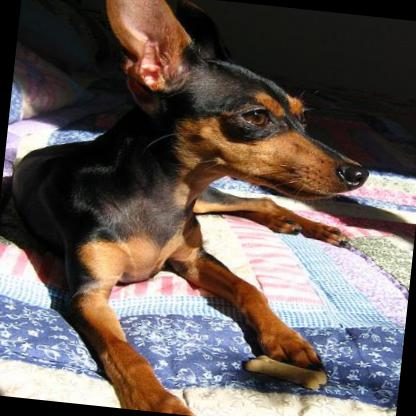miniature_pinscher: (0, 0, 383, 416)
